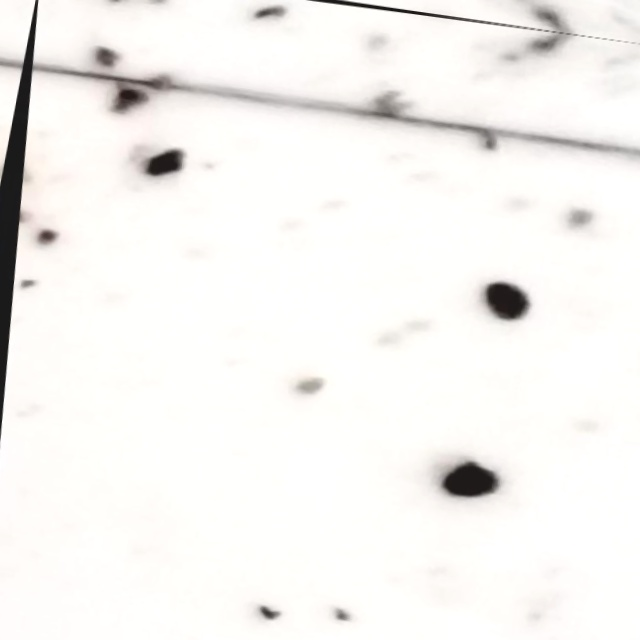varroa: (429, 455, 495, 503), (474, 279, 533, 324)
